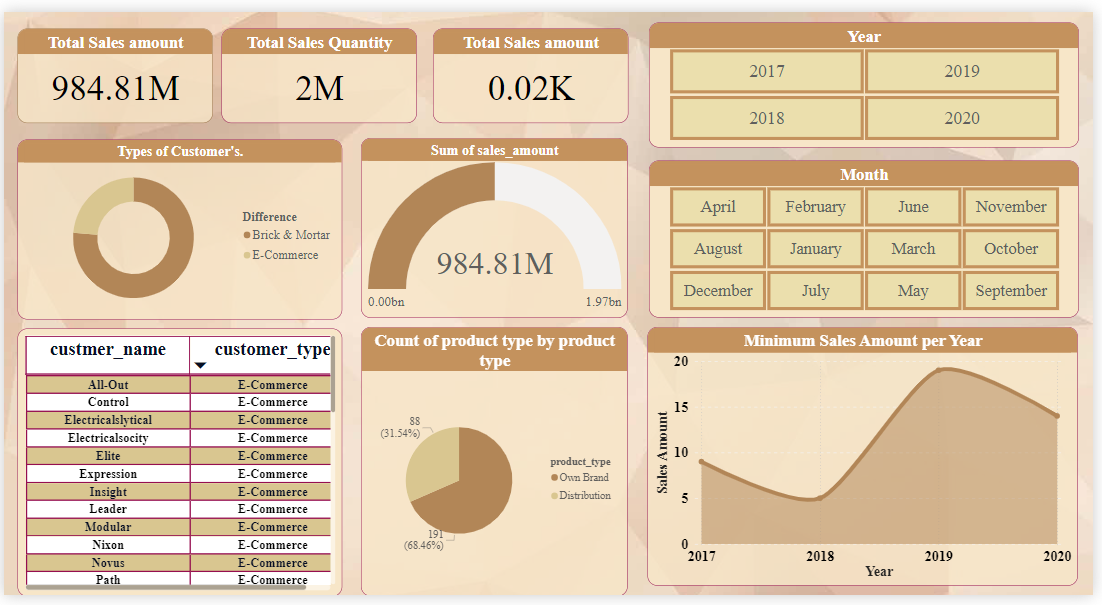

The dashboard page shown, as its layout file describes it:
{"tool":"powerbi","page":{"name":"Page 1","canvas":[1650,884],"ordinal":0},"visuals":[{"type":"donutChart","title":"Types of Customer''s.","fields":{"Category":["sales customers.customer_type"],"Y":["Sum(sales transactions.sales_qty)"]},"box":[19.6,192.2,492.2,272.5],"z":0},{"type":"card","title":"Total Sales amount ","fields":{"Values":["Sum(sales transactions.sales_amount)"]},"box":[19.6,25.5,296.1,143],"z":1000},{"type":"tableEx","fields":{"Values":["sales customers.custmer_name","sales customers.customer_type"]},"box":[19.6,478.4,492.2,405.9],"z":2000},{"type":"pieChart","title":"Count of product type by product type","fields":{"Category":["sales products.product_type"],"Y":["CountNonNull(sales products.product_type)"]},"box":[541.2,476.5,403.9,407.8],"z":3000},{"type":"card","title":"Total Sales  Quantity","fields":{"Values":["Sum(sales transactions.sales_qty)"]},"box":[329.4,25.5,296.1,143.1],"z":4000},{"type":"card","title":"Total Sales amount ","fields":{"Values":["sales transactions.sales_amount min per sales_amount"]},"box":[649,25.5,296.1,143.1],"z":5000},{"type":"gauge","fields":{"Y":["Sum(sales transactions.sales_amount)"]},"box":[540.4,191.5,404.3,272.3],"z":6000},{"type":"slicer","title":"Month","fields":{"Values":["sales date.month_name"]},"box":[976.6,225.5,651.1,238.3],"z":7000},{"type":"stackedAreaChart","title":"Minimum Sales Amount per Year","fields":{"Category":["sales date.year"],"Y":["sales transactions.sales_amount min per sales_amount"]},"box":[976,478,652,392],"z":8000},{"type":"slicer","title":"Year","fields":{"Values":["sales date.year"]},"box":[976.6,17,651.1,189.4],"z":9000}]}

Visuals, with their boxes in screenshot pixels (x1, y1, x2, y2), scaled from the page's 1650x884 canvas onto the 1102x605 screenshot:
"Types of Customer''s." donutChart: [13, 132, 342, 318]
"Total Sales amount " card: [13, 17, 211, 115]
tableEx - sales customers.custmer_name x sales customers.customer_type: [13, 327, 342, 604]
"Count of product type by product type" pieChart: [361, 326, 631, 604]
"Total Sales  Quantity" card: [220, 17, 418, 115]
"Total Sales amount " card: [433, 17, 631, 115]
gauge - Sum(sales transactions.sales_amount): [361, 131, 631, 317]
"Month" slicer: [652, 154, 1087, 317]
"Minimum Sales Amount per Year" stackedAreaChart: [652, 327, 1087, 595]
"Year" slicer: [652, 12, 1087, 141]
